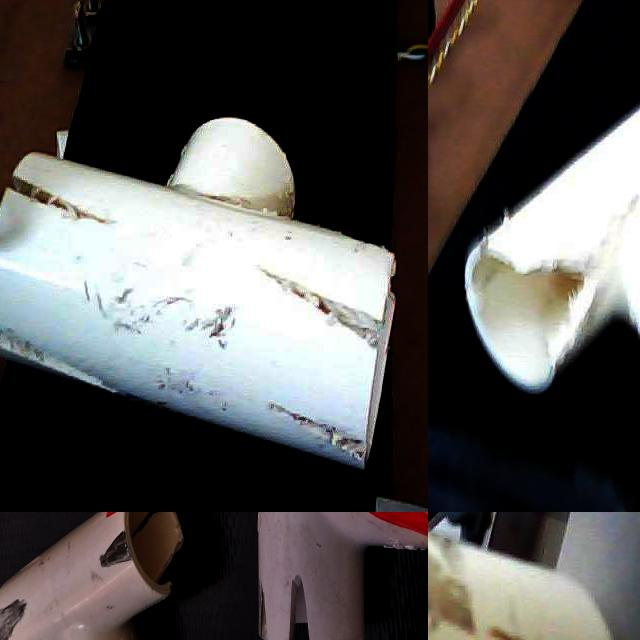Defective: (250, 232, 392, 379), (0, 297, 153, 410), (479, 238, 593, 385), (428, 512, 506, 640), (428, 591, 622, 640), (260, 392, 376, 464), (5, 168, 114, 228), (75, 512, 141, 534), (94, 598, 117, 640), (0, 518, 15, 543), (45, 628, 73, 640)
L Joint: (0, 512, 153, 640)
T Joint: (0, 119, 397, 474), (463, 100, 640, 397), (428, 524, 614, 640)
